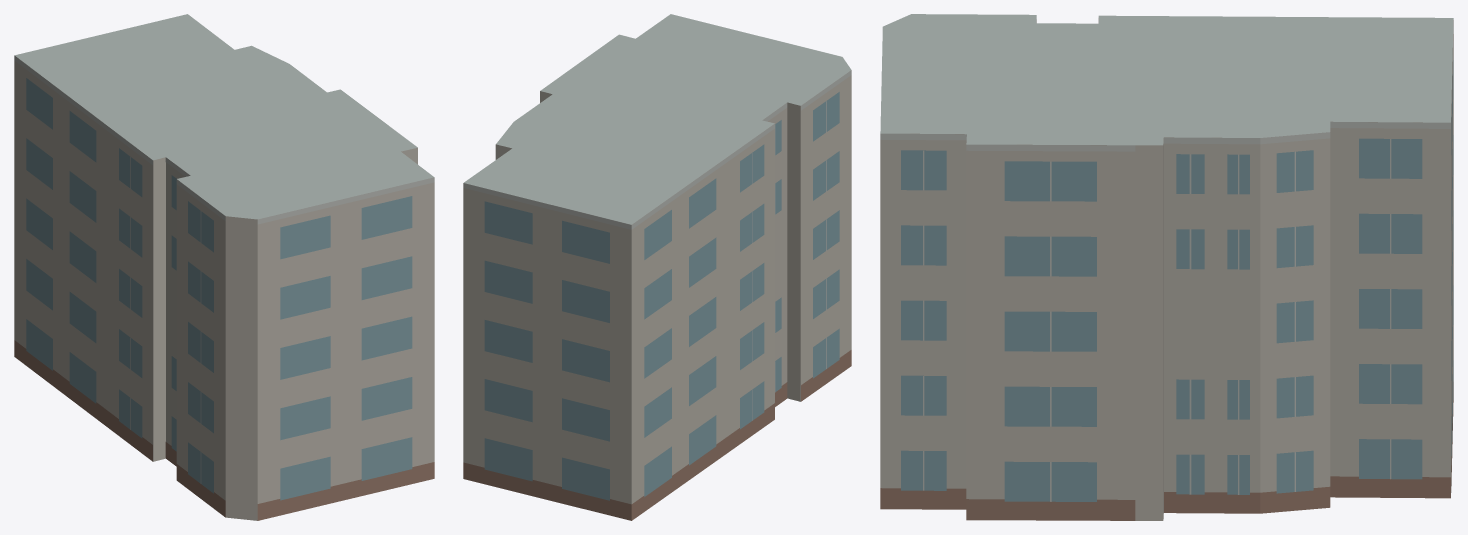
The model's file is survey-upis-32975791.glb.
3 renders of one model, left to right at view 1: azimuth 30°, elevation 25°; view 2: azimuth 150°, elevation 25°; view 3: azimuth 270°, elevation 25°, orthographic. The views are drawn at different scales.
Parts seen in each view (by area): view 1: survey-upis-32975791.tmp; view 2: survey-upis-32975791.tmp; view 3: survey-upis-32975791.tmp.
Boxes of the visible parts, x1=… form: survey-upis-32975791.tmp: x1=14, y1=14, x2=434, y2=520; survey-upis-32975791.tmp: x1=463, y1=14, x2=851, y2=520; survey-upis-32975791.tmp: x1=880, y1=14, x2=1453, y2=520.
Bounding box in the file's own units: 10.88 × 14.5 × 20.06.
